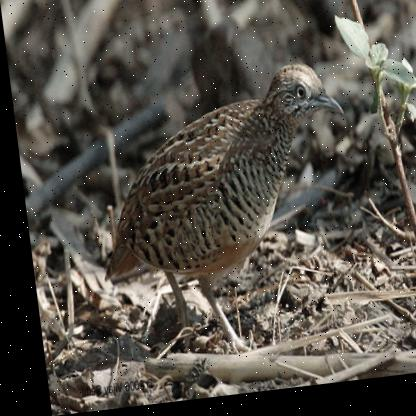Burung: (79, 65, 363, 371)
